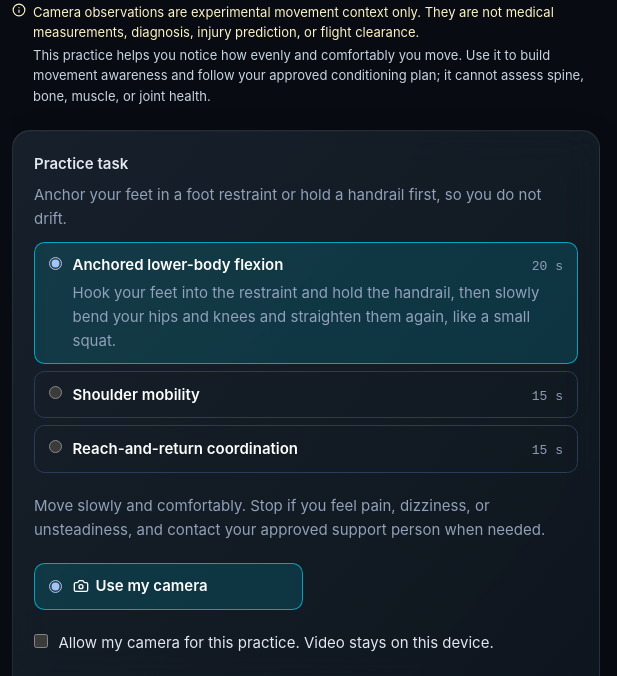
Test: VisualCheckView › explains a denied camera permission and offers the synthetic demo
Click the checkbox labelled "Allow my camera for this practice" at (41, 641), box [34, 634, 48, 648]
(page scrolled)
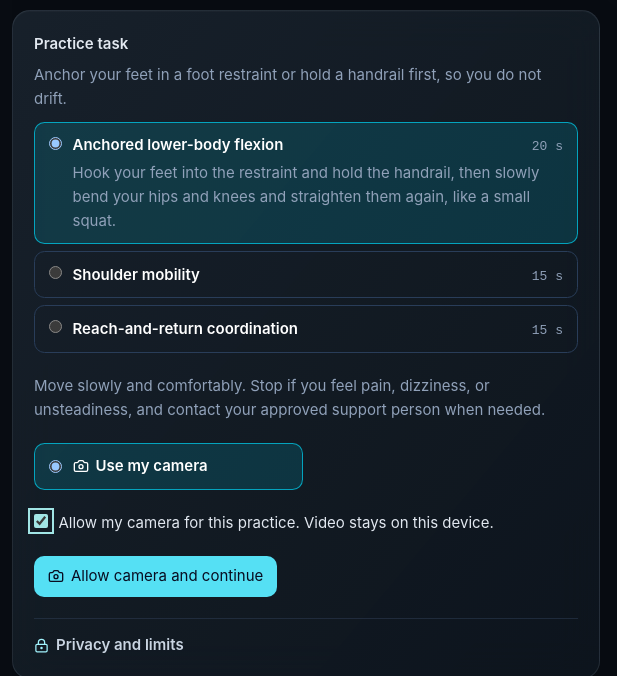
Click the button "Allow camera and continue" at (156, 576), box [34, 556, 277, 597]
(page scrolled)
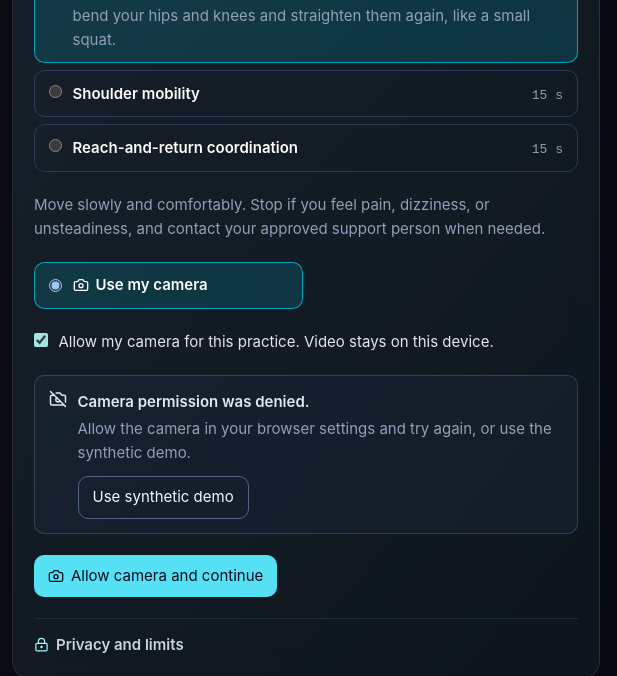
Check: the text "Camera permission was denied." is shown, box [78, 392, 310, 411]
Click the button "Use synthetic demo" at (163, 497), box [78, 476, 249, 519]
(page scrolled)
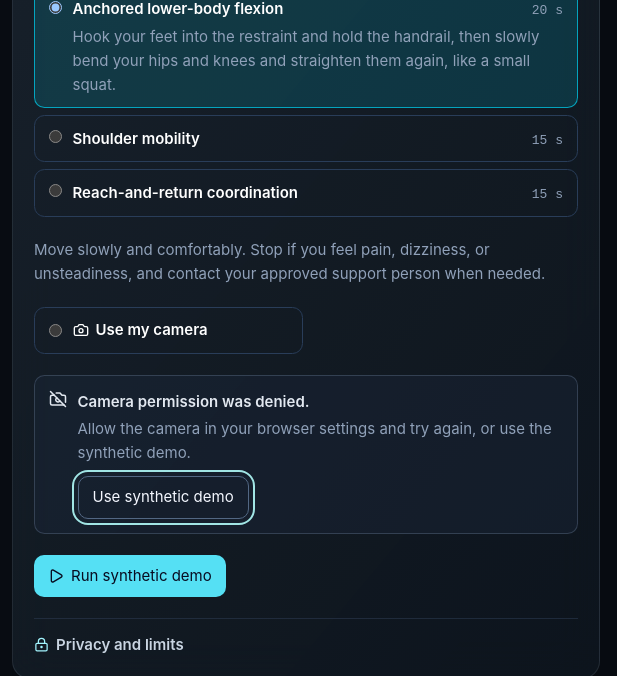
Check: the button "Run synthetic demo" is shown, box [34, 555, 226, 597]
